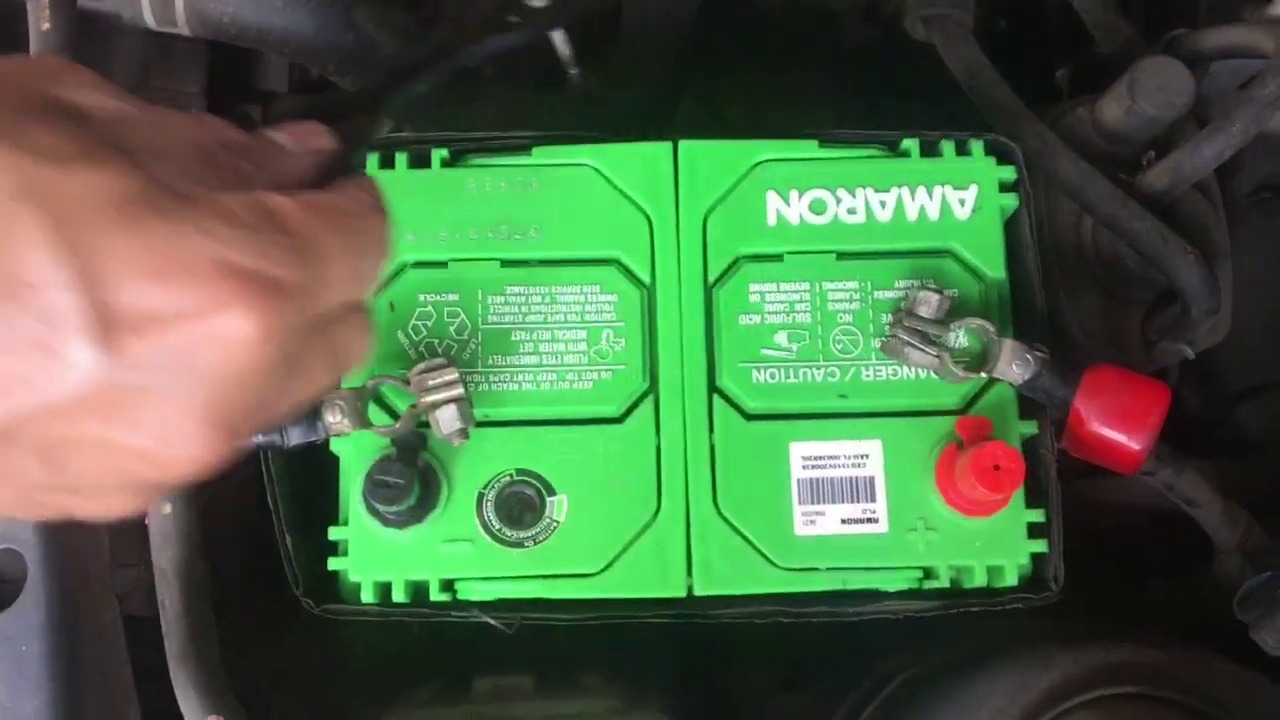battery: (330, 132, 1031, 595)
neg_disconnected: (334, 367, 509, 528)
pos_disconnected: (873, 263, 1125, 535)
